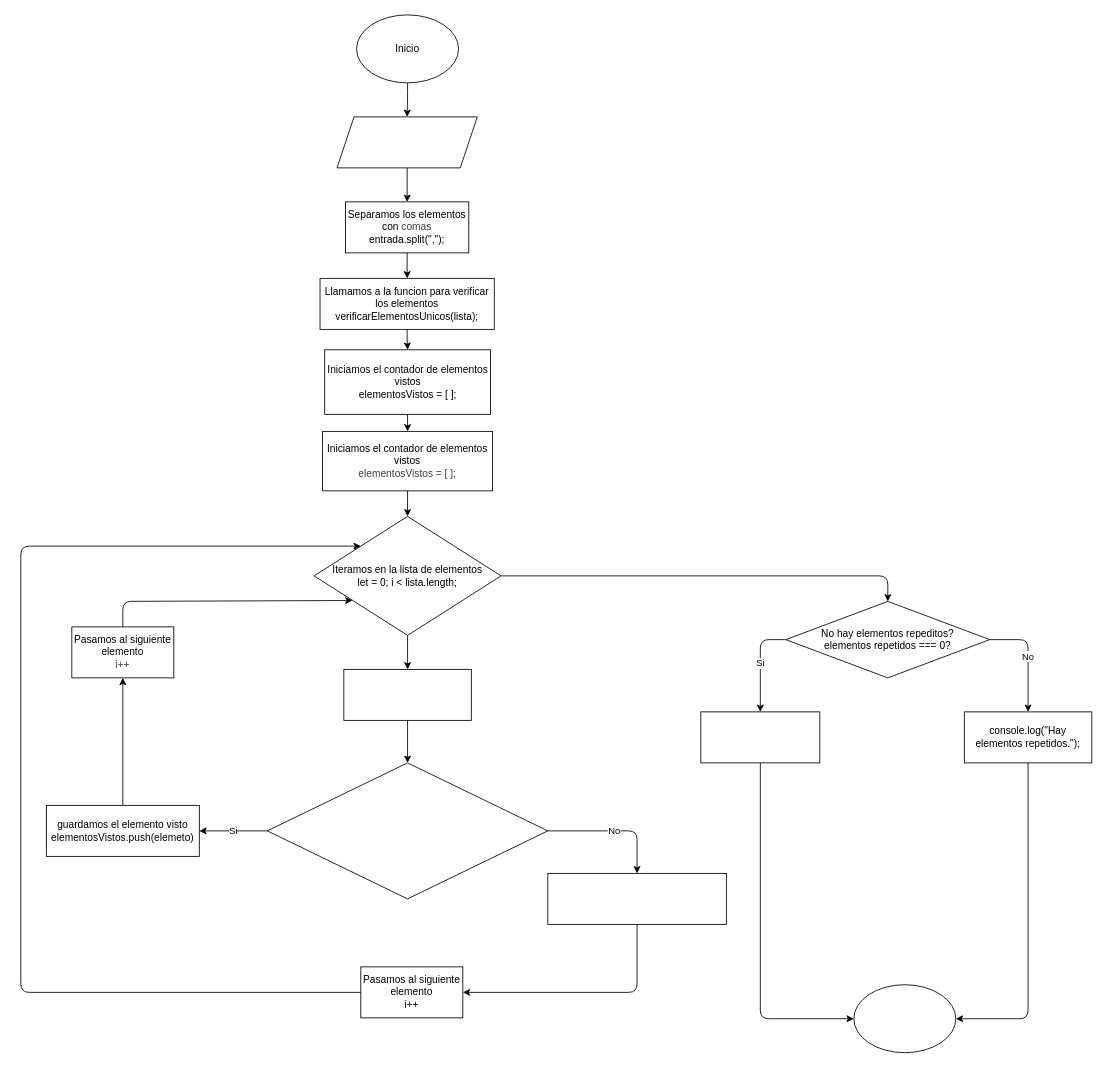
This 1107x1068 diagram has some shape labels left out. Here are the shapes that lost their labels. From the top down, the centre of each, then its label:
pixel 406 142: Se ingresa la lista de elementos
pixel 407 694: guardamos la lista en la variable elemento elemento = lista[i].trim();
pixel 760 737: console.log("Todos los elementos son únicos.");
pixel 407 830: los elementos de la lista elemento son unicos?
pixel 636 898: Gardamos el elemento repetido elementoRepetido.Push(elemento)
pixel 904 1018: Fin
